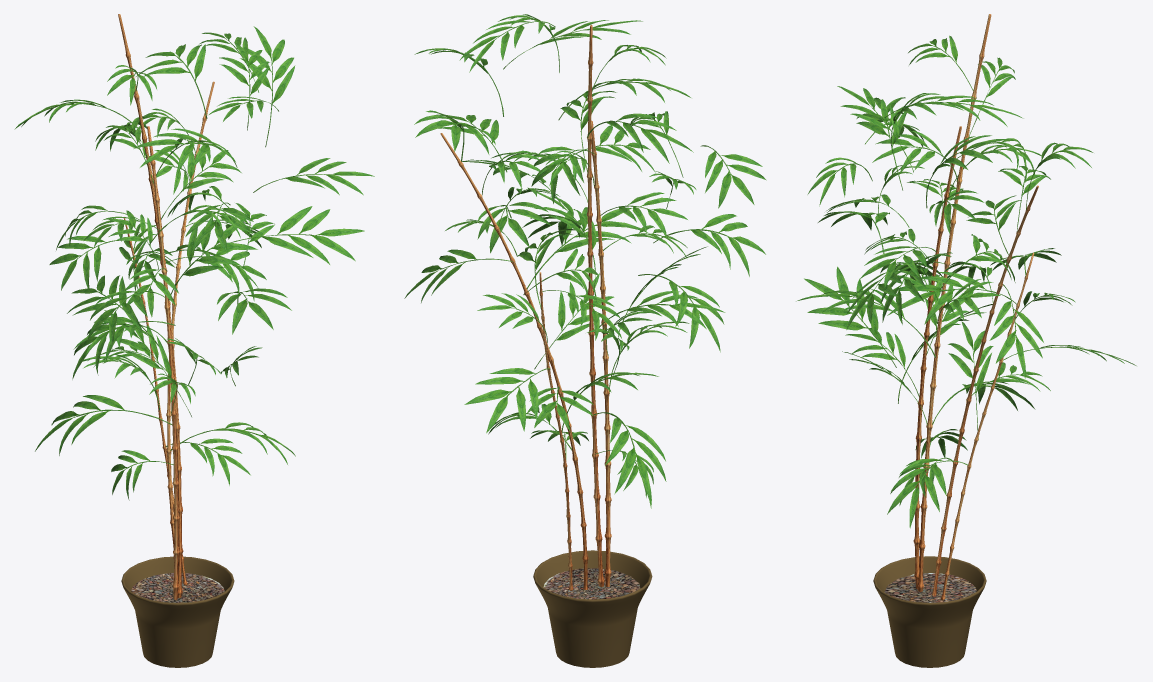
File: Plant 3 bambu.FBX
The picture shows the model from 3 angles, left to right: view 1: azimuth 30°, elevation 25°; view 2: azimuth 150°, elevation 25°; view 3: azimuth 270°, elevation 25°; orthographic projection. The views are drawn at different scales.
Parts seen in each view (by area): view 1: Bambu plant; view 2: Bambu plant; view 3: Bambu plant.
Boxes of the visible parts, x1=… form: Bambu plant: x1=14, y1=14, x2=374, y2=667; Bambu plant: x1=404, y1=14, x2=766, y2=667; Bambu plant: x1=796, y1=14, x2=1136, y2=667.
Bounding box in the file's own units: 62.44 × 59.17 × 119.
